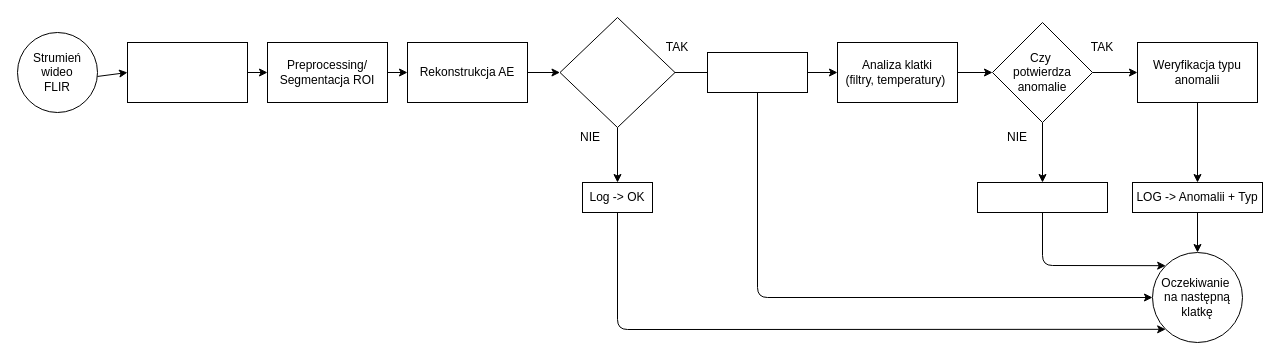
This 1280x360 diagram has some shape labels left out. The shapes that lost their labels are listed below. From the top down, each one's centre as x and y in pixels, then its label:
[187,72]: Przechwycenie klatki
[617,72]: Błąd rekonstrukcji > próg
[757,72]: Log -> Anomalia
[1042,197]: LOG -> Niepewna
